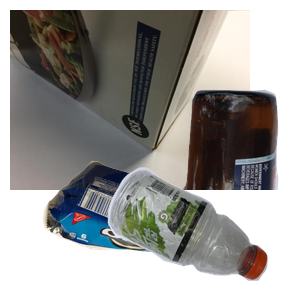cardboard: (10, 10, 250, 190)
glass: (87, 87, 300, 267)
plastic: (105, 165, 300, 300)
trash: (40, 158, 245, 300)
